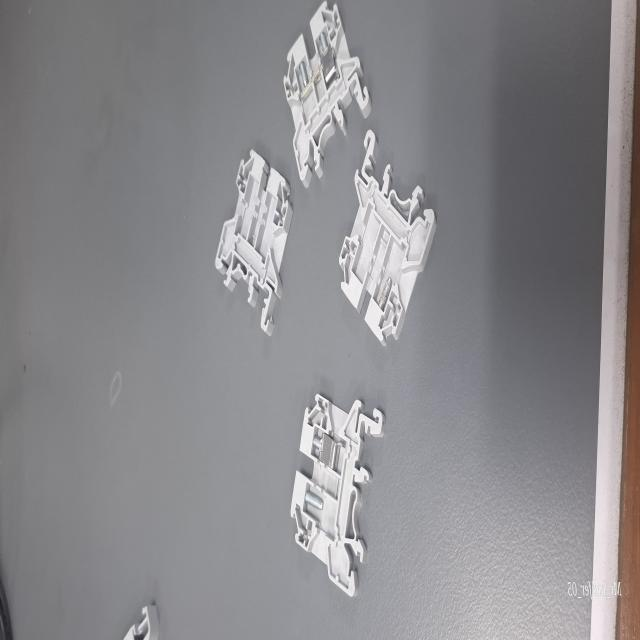Reject: (334, 125, 438, 350), (288, 378, 386, 610), (202, 142, 297, 346), (278, 0, 380, 186)
